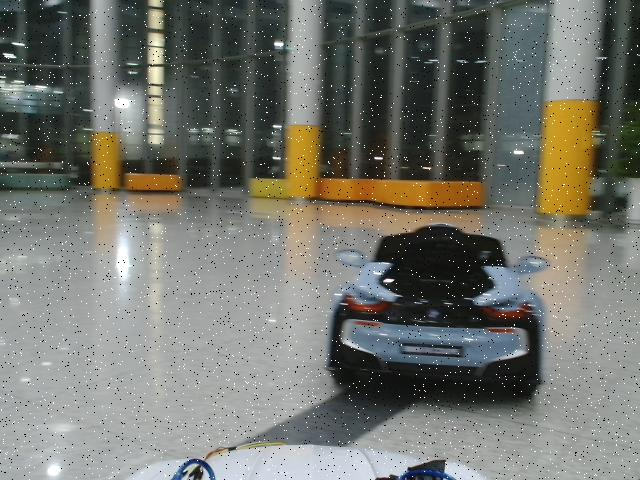car: (326, 224, 550, 398)
